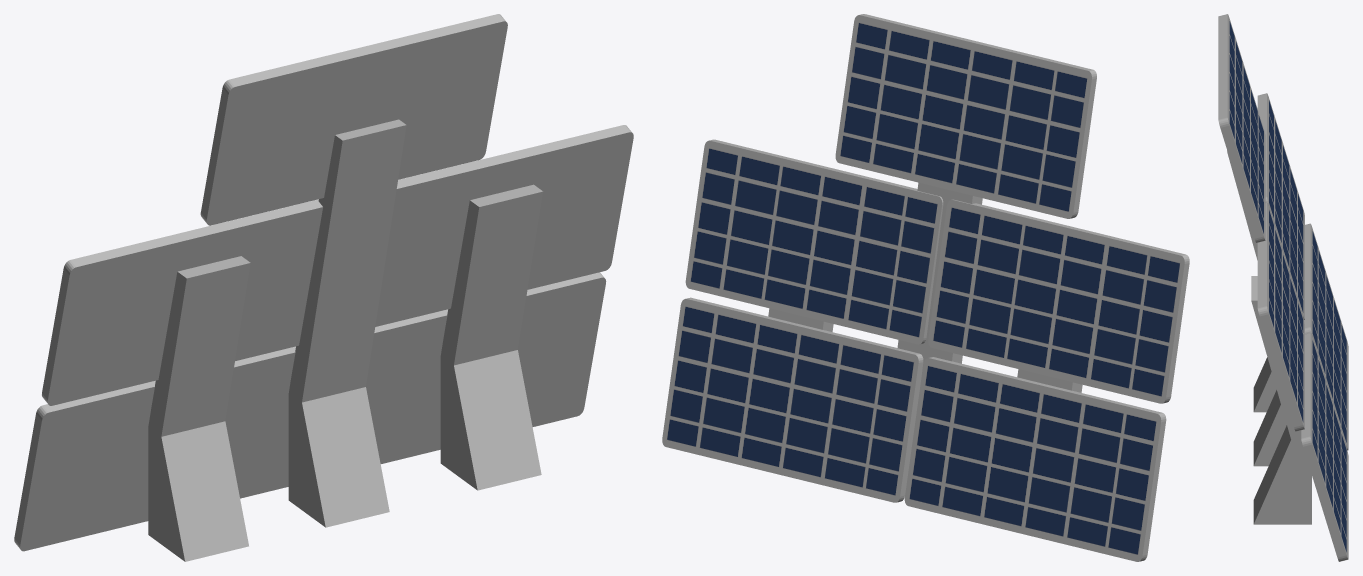
The model's file is Panel.fbx.
3 renders of one model, left to right at view 1: azimuth 30°, elevation 25°; view 2: azimuth 150°, elevation 25°; view 3: azimuth 270°, elevation 25°, orthographic. The views are drawn at different scales.
Parts seen in each view (by area): view 1: Cube.001; view 2: Cube.001; view 3: Cube.001.
Boxes of the visible parts, x1,y1,x2,y2 form: Cube.001: [14, 14, 633, 561]; Cube.001: [662, 14, 1189, 561]; Cube.001: [1218, 14, 1348, 561].
Size of the model in its own units: 1762 by 1466 by 448.
Materials: 1 (1 with a texture image).
